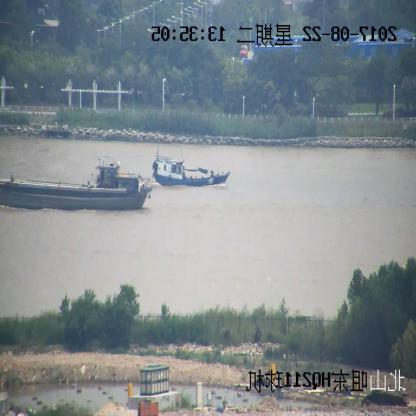Bulk Carrier: (1, 163, 153, 213)
